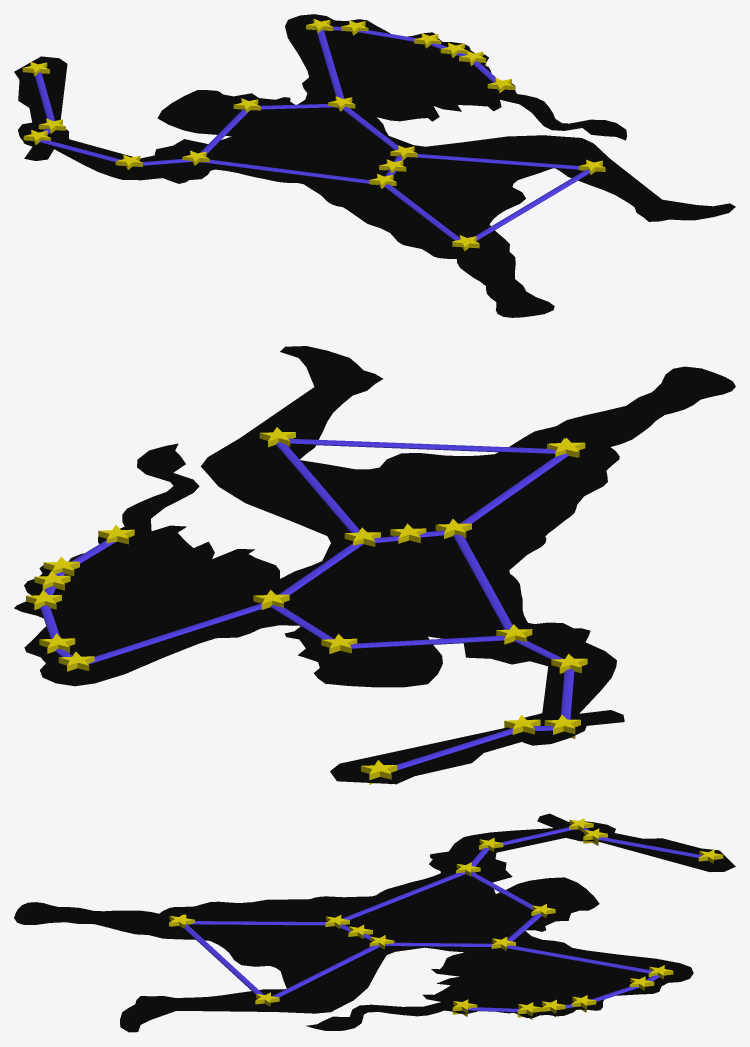
The model's file is Orion-za.glb.
The picture shows the model from 3 angles, top to bottom: view 1: azimuth 30°, elevation 25°; view 2: azimuth 150°, elevation 25°; view 3: azimuth 270°, elevation 25°; orthographic projection. The views are drawn at different scales.
Visible parts, largest first — view 1: 円, 円柱.019, 円柱.003, 円柱.017, 円柱.006, 円柱.018; view 2: 円, 円柱.019, 円柱.006, 円柱.003, 円柱.017, 円柱.018, 円柱.001, 円柱.016; view 3: 円, 円柱.006, 円柱.019, 円柱.003, 円柱.017, 円柱.018, 円柱.016, 円柱.002.
Boxes of the visible parts, box(x1,y1,x2,y2) form: 円: box(14, 14, 735, 317); 円柱.019: box(475, 169, 589, 240); 円柱.003: box(203, 159, 378, 184); 円柱.017: box(417, 154, 578, 169); 円柱.006: box(316, 30, 344, 98); 円柱.018: box(384, 184, 459, 240); 円: box(14, 346, 735, 784); 円柱.019: box(289, 438, 555, 453); 円柱.006: box(88, 603, 262, 664); 円柱.003: box(453, 534, 512, 629); 円柱.017: box(276, 442, 359, 532); 円柱.018: box(460, 453, 568, 523); 円柱.001: box(350, 635, 505, 648); 円柱.016: box(396, 728, 512, 770); 円: box(14, 813, 735, 1032); 円柱.006: box(507, 945, 651, 973); 円柱.019: box(183, 924, 263, 994); 円柱.003: box(342, 872, 465, 919); 円柱.017: box(272, 945, 379, 997); 円柱.018: box(191, 921, 326, 925); 円柱.016: box(598, 837, 701, 857); 円柱.002: box(387, 942, 493, 946).
Bounding box in the file's own units: 58.01 × 0.8959 × 80.83.
